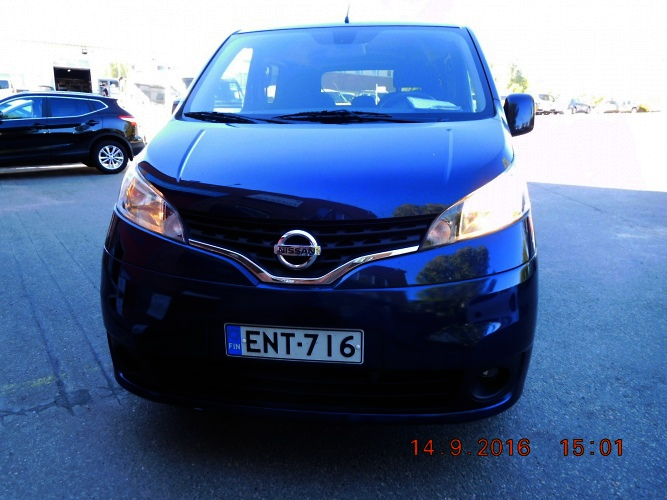license: (226, 327, 361, 367)
